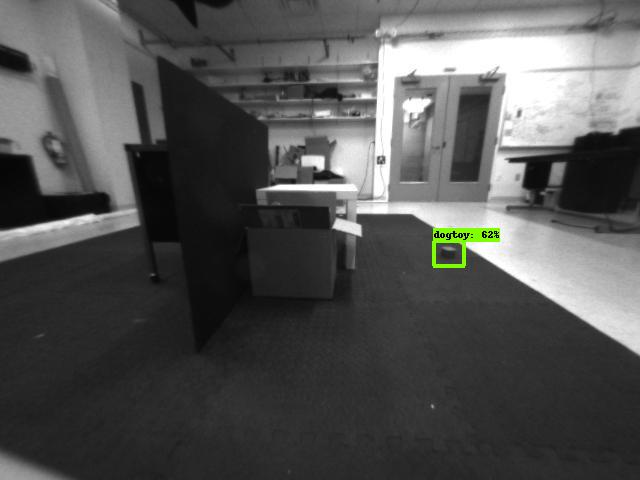dogtoy: (435, 243, 466, 265)
